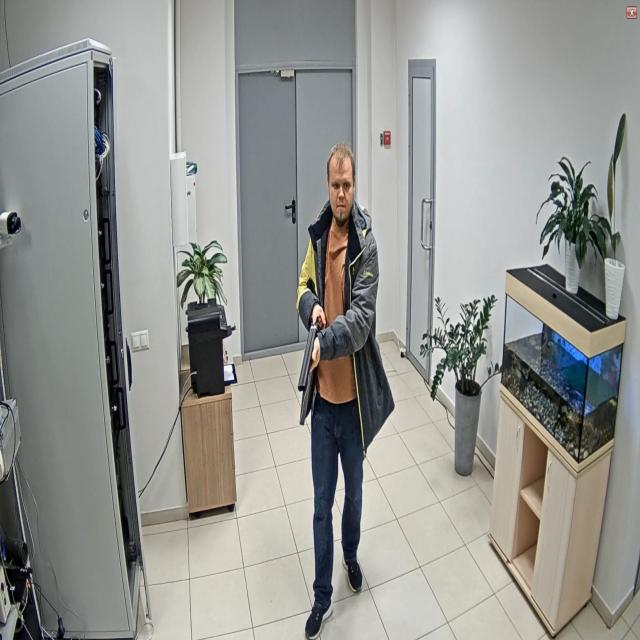-Gun: (299, 316, 326, 390)
